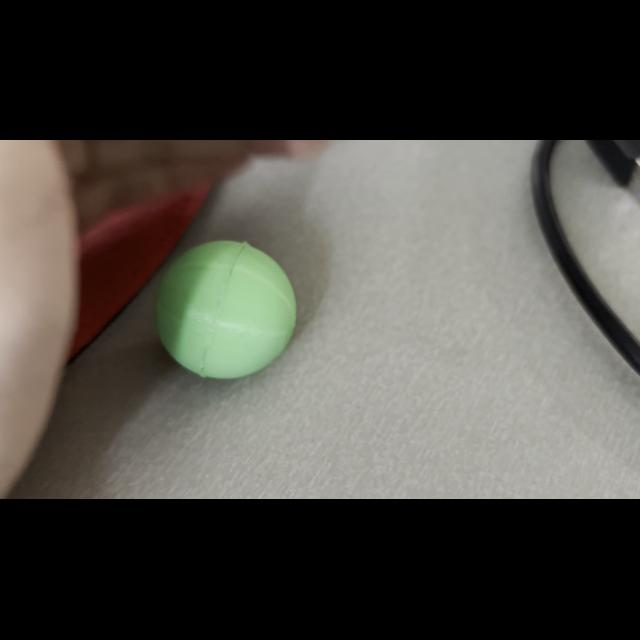objects: (146, 237, 304, 385)
